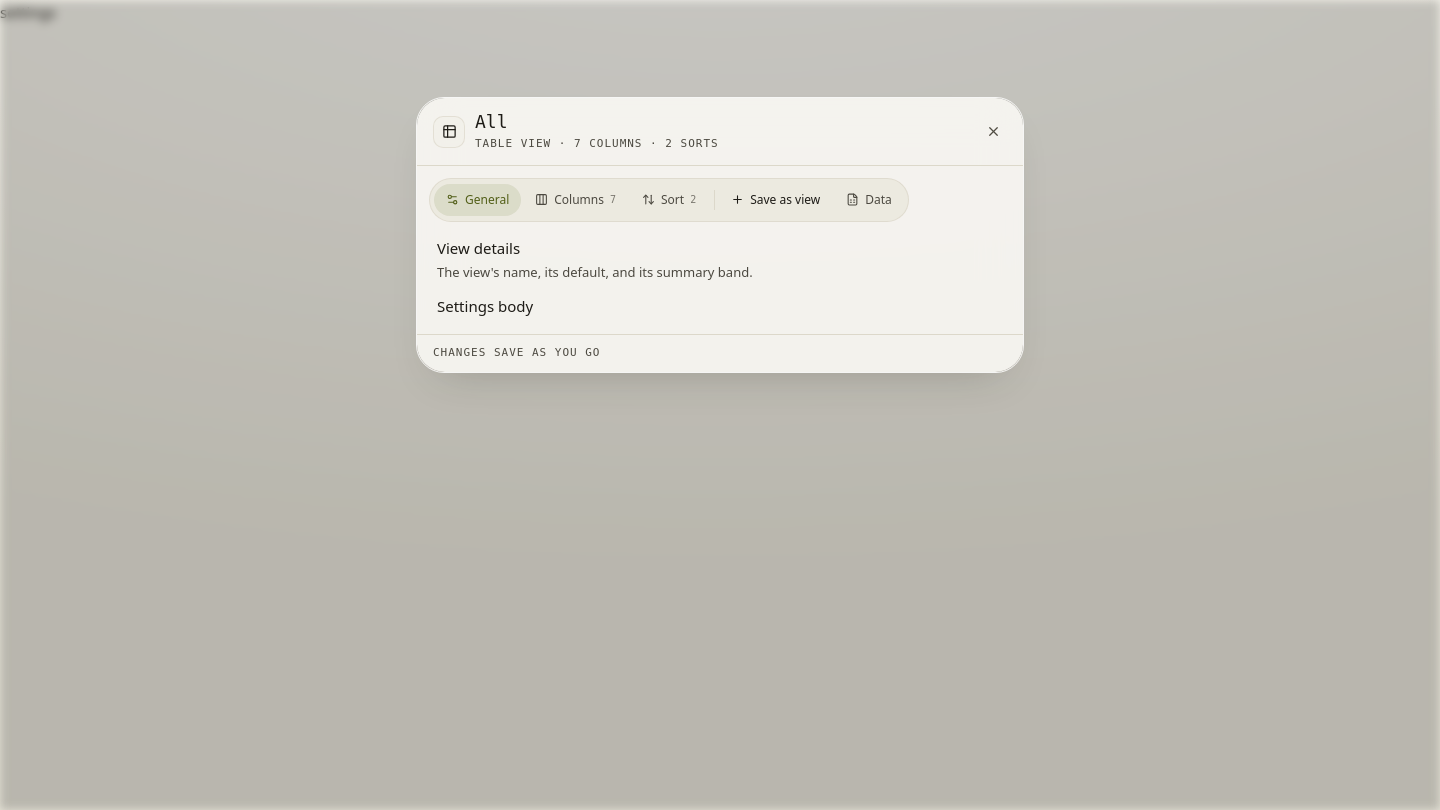
Test: ViewSheet › swaps the body in place without a menu or a Back step
Click the tab with aria-label "Sort, 2" at (669, 200), box top-left (630, 184), bottom-right (708, 216)
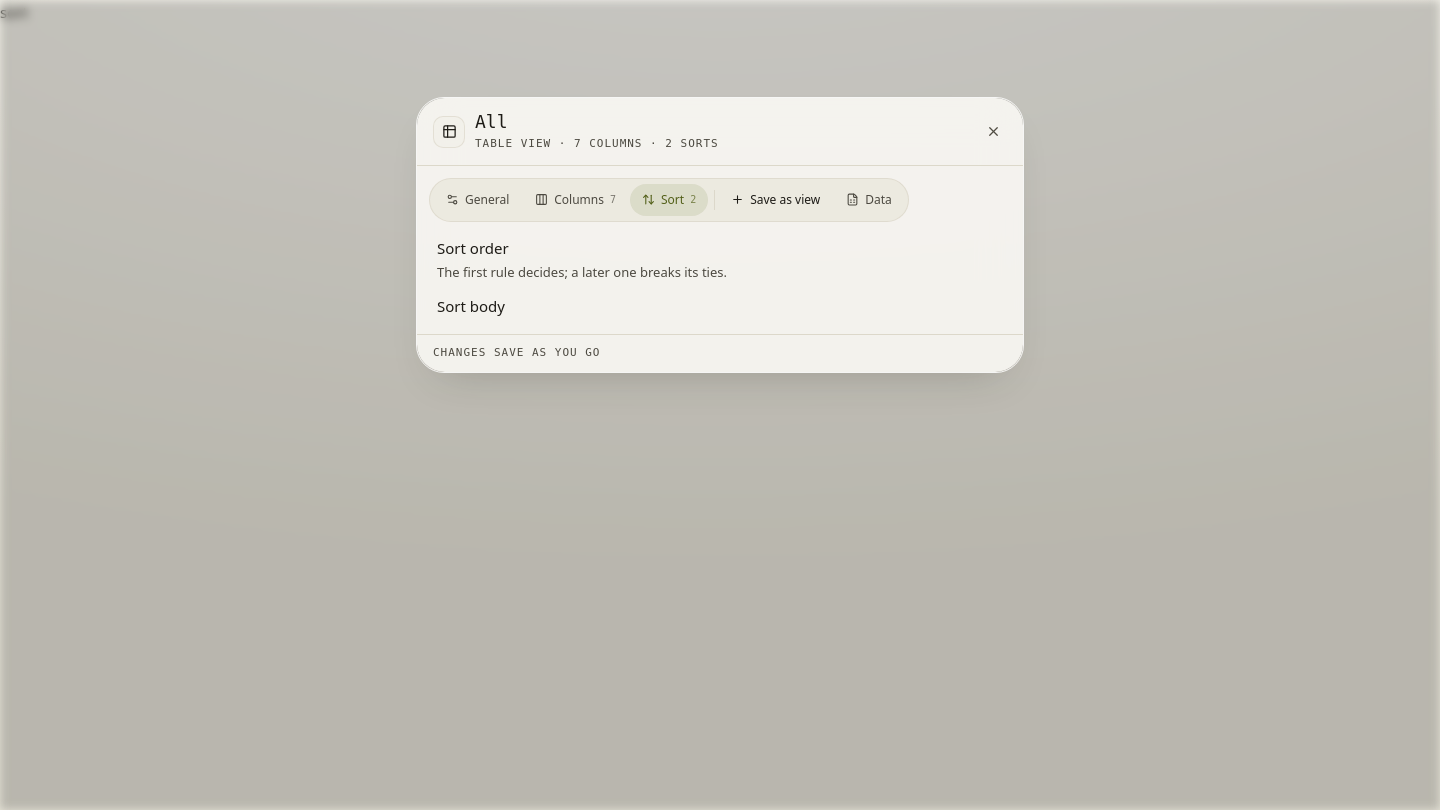
Expected: the text with test id "panel" reads "sort", top-left (0, 2), bottom-right (28, 22)
Expected: the text "Sort body" is shown, top-left (437, 296), bottom-right (505, 316)
Click the tab "General" at (478, 200), box top-left (434, 184), bottom-right (521, 216)
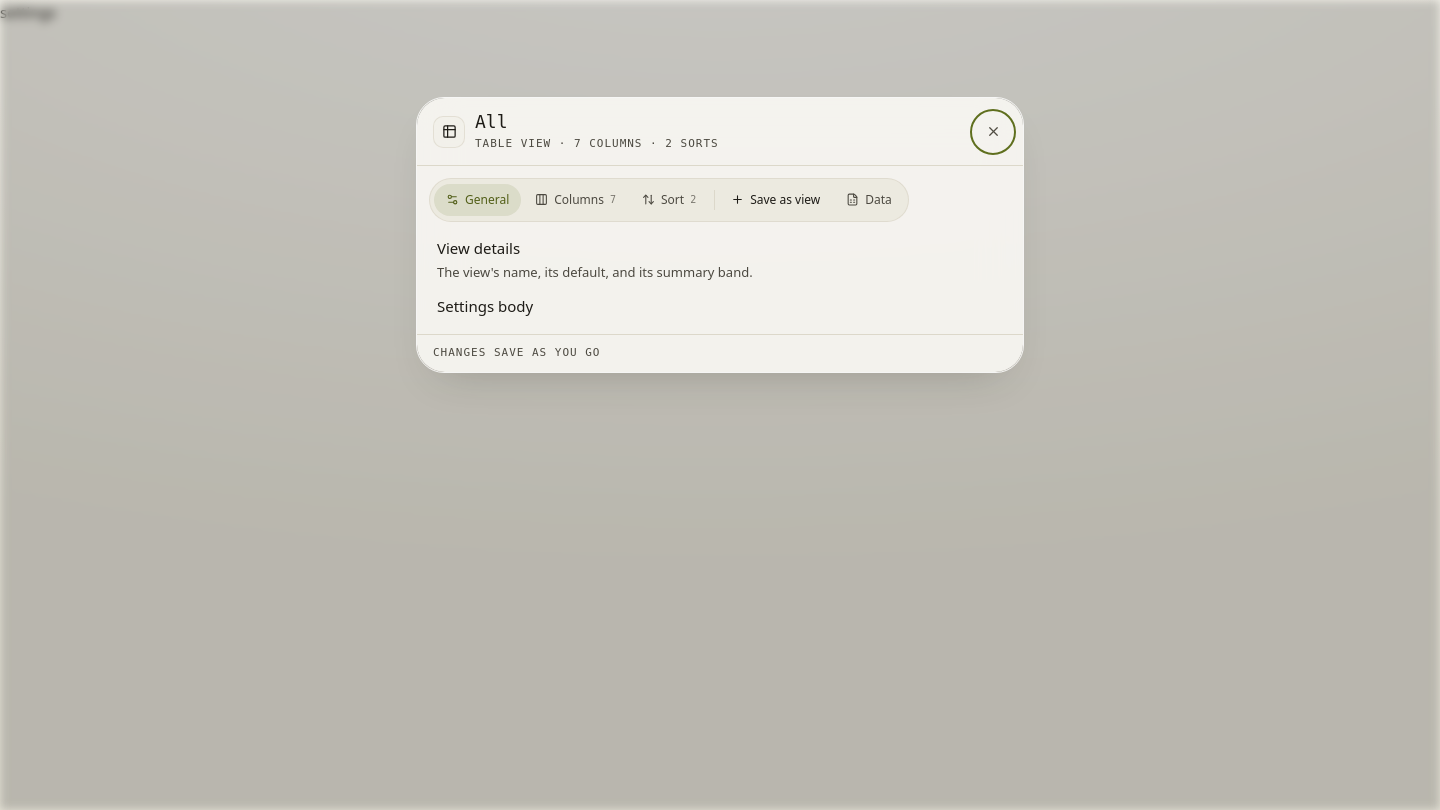
Expected: the text "Settings body" is shown, top-left (437, 296), bottom-right (533, 316)
